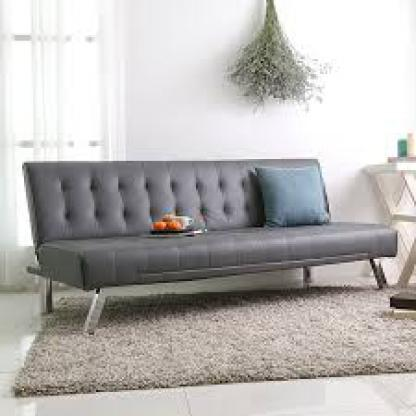sofa: (22, 157, 381, 290)
